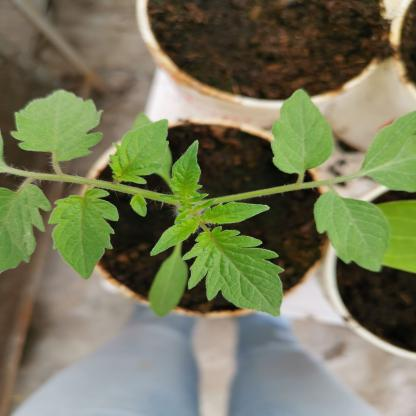T_L_R: (182, 227, 287, 317), (13, 91, 105, 162), (314, 188, 391, 272), (49, 189, 120, 280), (272, 90, 335, 175), (357, 111, 416, 193), (1, 184, 52, 275), (108, 120, 170, 184), (160, 141, 209, 207), (152, 217, 201, 257), (199, 202, 271, 225)
T_S_R: (2, 165, 162, 202)
